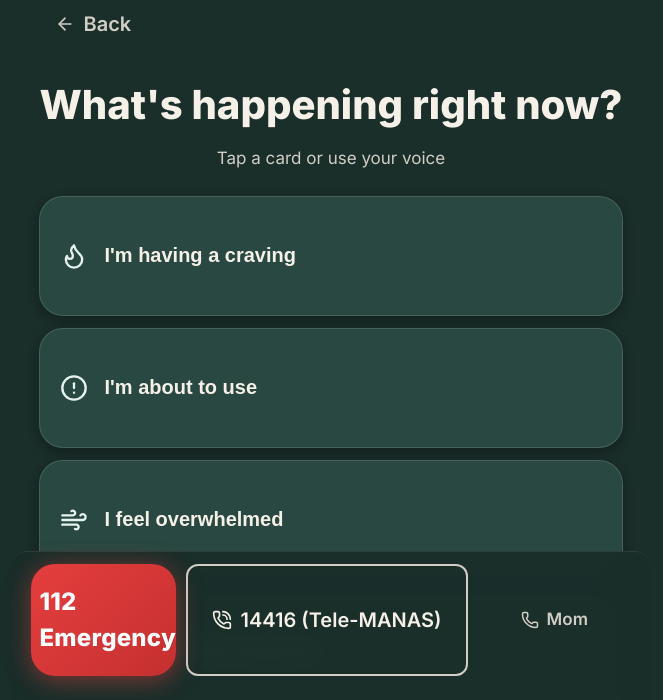
Crisis Mode › renders a read aloud button on the response
Click the button "I'm having a craving" at [200, 255], box [40, 196, 622, 316]
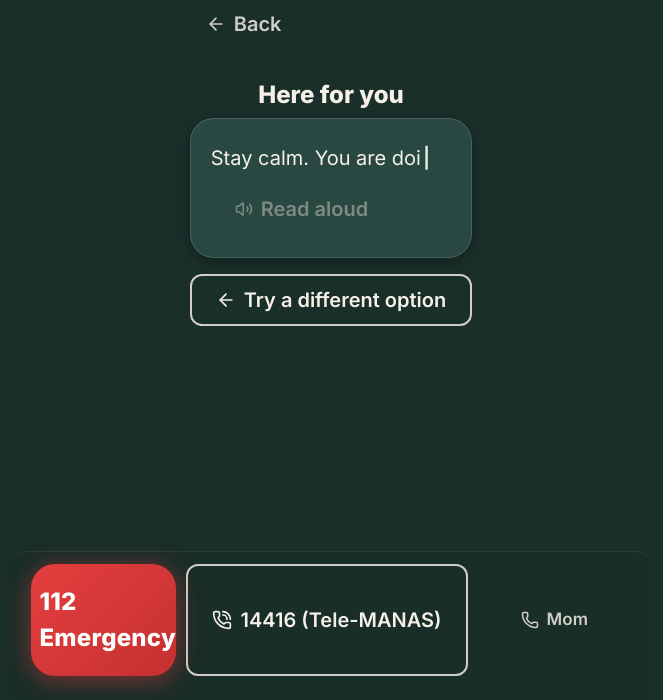
Now the button "Read aloud" is shown, box [211, 185, 392, 233]
